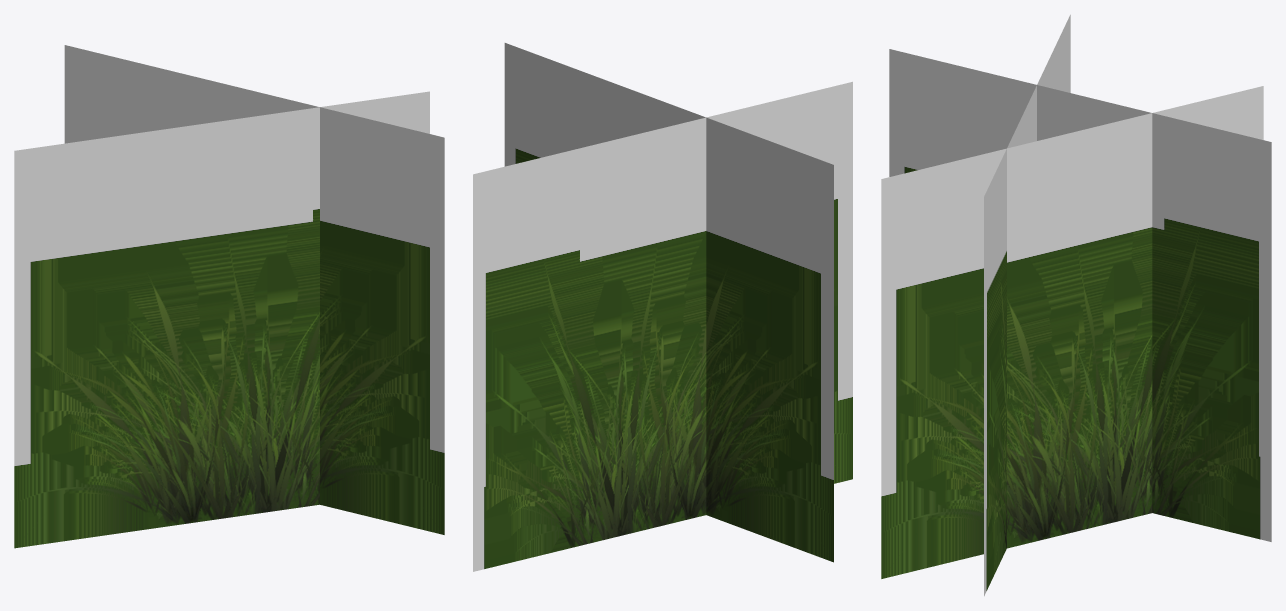
The model's file is grass.glb.
3 renders of one model, left to right at view 1: azimuth 30°, elevation 25°; view 2: azimuth 150°, elevation 25°; view 3: azimuth 270°, elevation 25°, orthographic.
Visible parts, largest first — view 1: Grass; view 2: Grass; view 3: Grass.
Part boxes in pixels (box(x1,y1,x2,y2)): Grass: box(14, 45, 444, 548); Grass: box(473, 43, 852, 571); Grass: box(881, 14, 1271, 596).
Size of the model in its own units: 1.96 by 2 by 1.77.
1 material, 1 textured.
